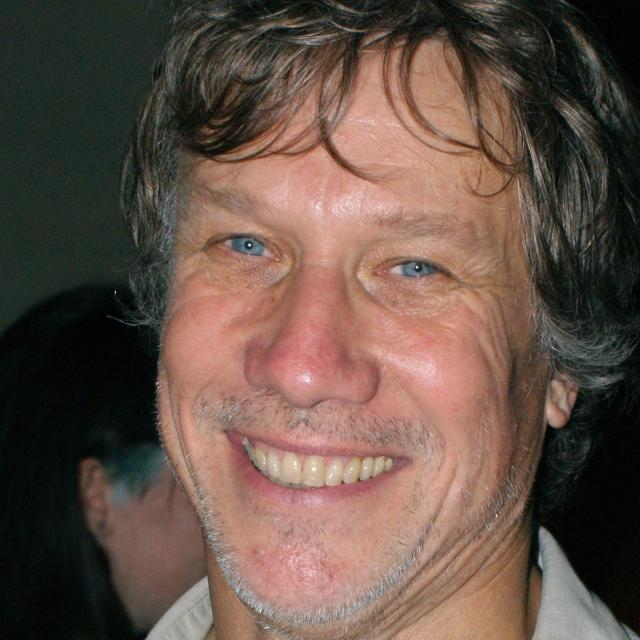Normal: (156, 38, 548, 627)
